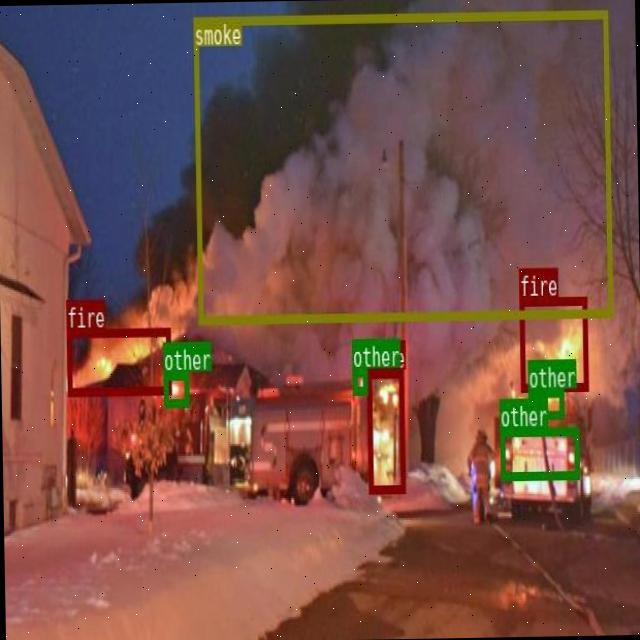fire: (66, 326, 169, 394), (518, 296, 588, 390), (366, 368, 404, 492)
smoke: (193, 10, 612, 321)
